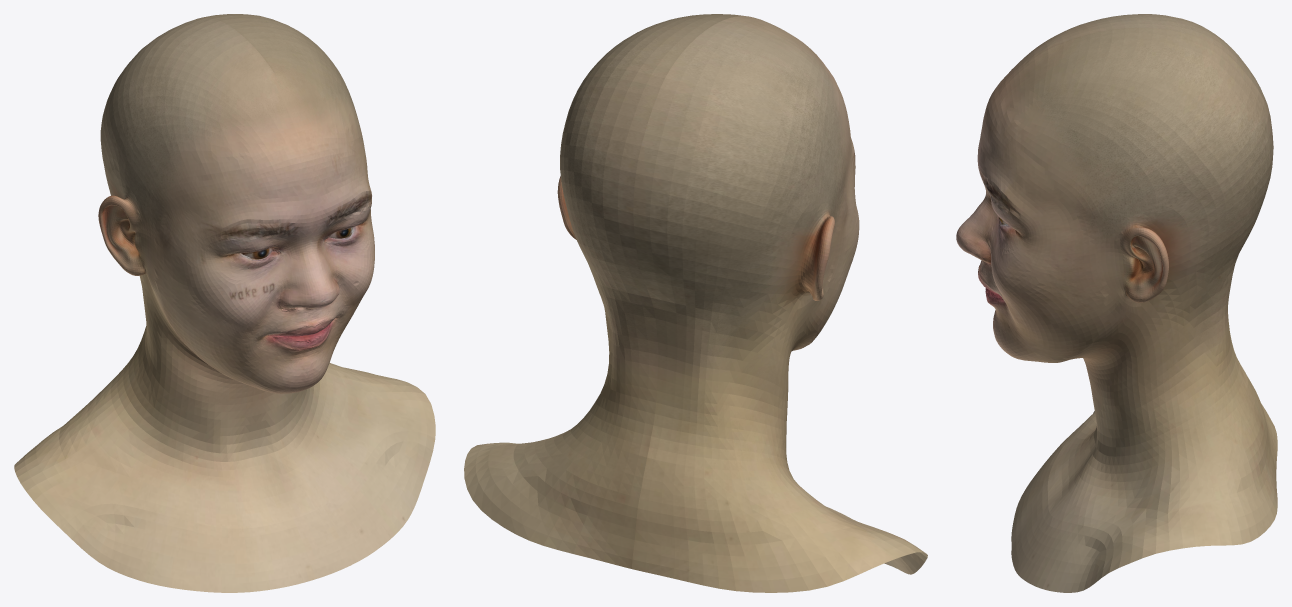
The picture shows the model from 3 angles, left to right: view 1: azimuth 30°, elevation 25°; view 2: azimuth 150°, elevation 25°; view 3: azimuth 270°, elevation 25°; orthographic projection. The views are drawn at different scales.
Visible parts, largest first — view 1: head_lod0_mesh; view 2: head_lod0_mesh; view 3: head_lod0_mesh.
Part boxes in pixels (x1=…): head_lod0_mesh: x1=14, y1=14, x2=435, y2=592; head_lod0_mesh: x1=464, y1=14, x2=927, y2=592; head_lod0_mesh: x1=956, y1=14, x2=1277, y2=592.
Size of the model in its own units: 29.88 by 36.43 by 20.45.
